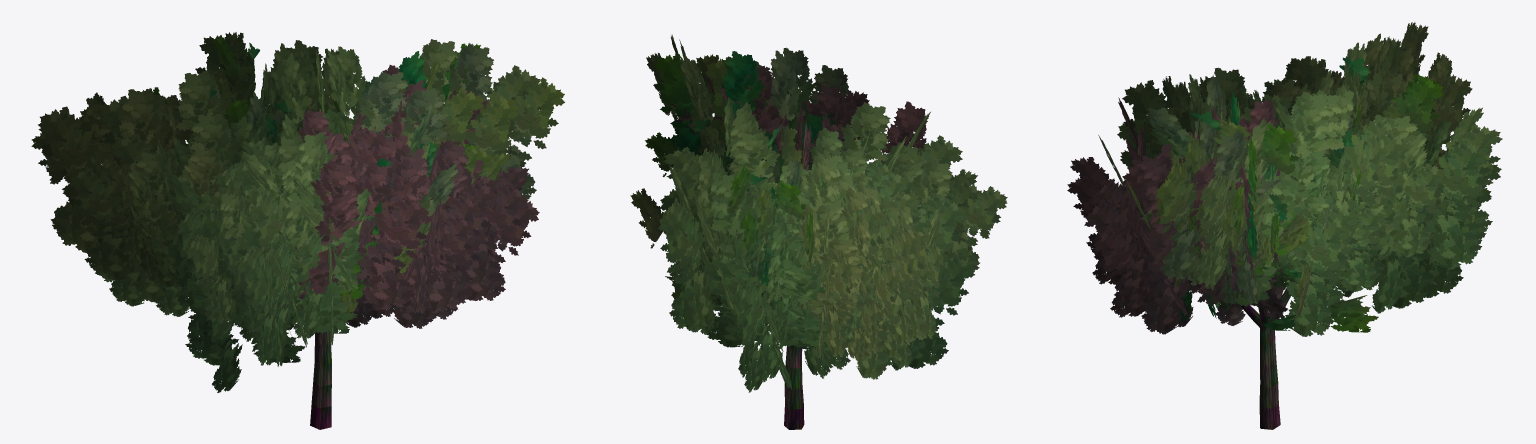
The model's file is nat_oak_a_LOD2.glb.
3 views of the same model, side by side, from view 1: azimuth 30°, elevation 25°; view 2: azimuth 150°, elevation 25°; view 3: azimuth 270°, elevation 25° (orthographic). The views are drawn at different scales.
Parts seen in each view (by area): view 1: nat_oak_a_LOD2; view 2: nat_oak_a_LOD2; view 3: nat_oak_a_LOD2.
Boxes of the visible parts, x1,y1,x2,y2 form: nat_oak_a_LOD2: (31, 32, 564, 429); nat_oak_a_LOD2: (630, 34, 1007, 429); nat_oak_a_LOD2: (1067, 22, 1502, 429).
Bounding box in the file's own units: 12.83 × 10.7 × 11.92.
2 materials, 2 textured.
